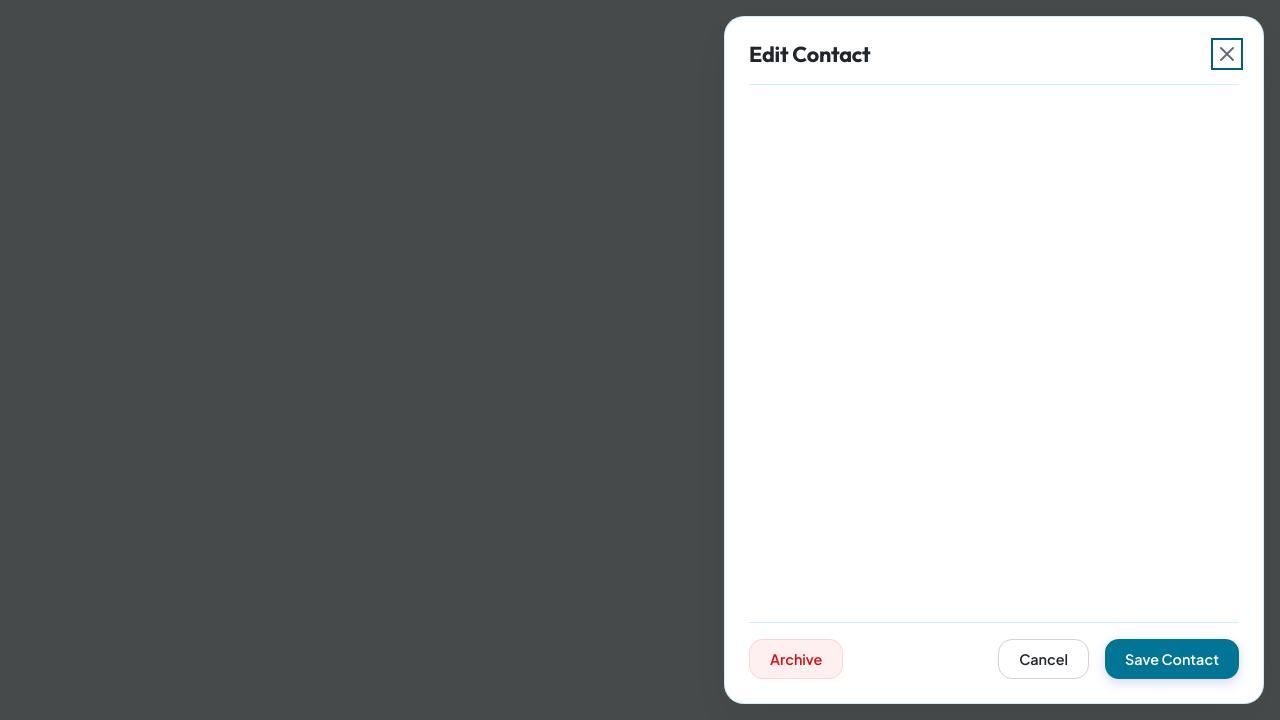
ContactDrawer › archiving › archives when confirmed, closes and reports it
The width and height of the screenshot is (1280, 720).
Click the button with test id "archive-contact" at (796, 659), box [749,639,844,679]
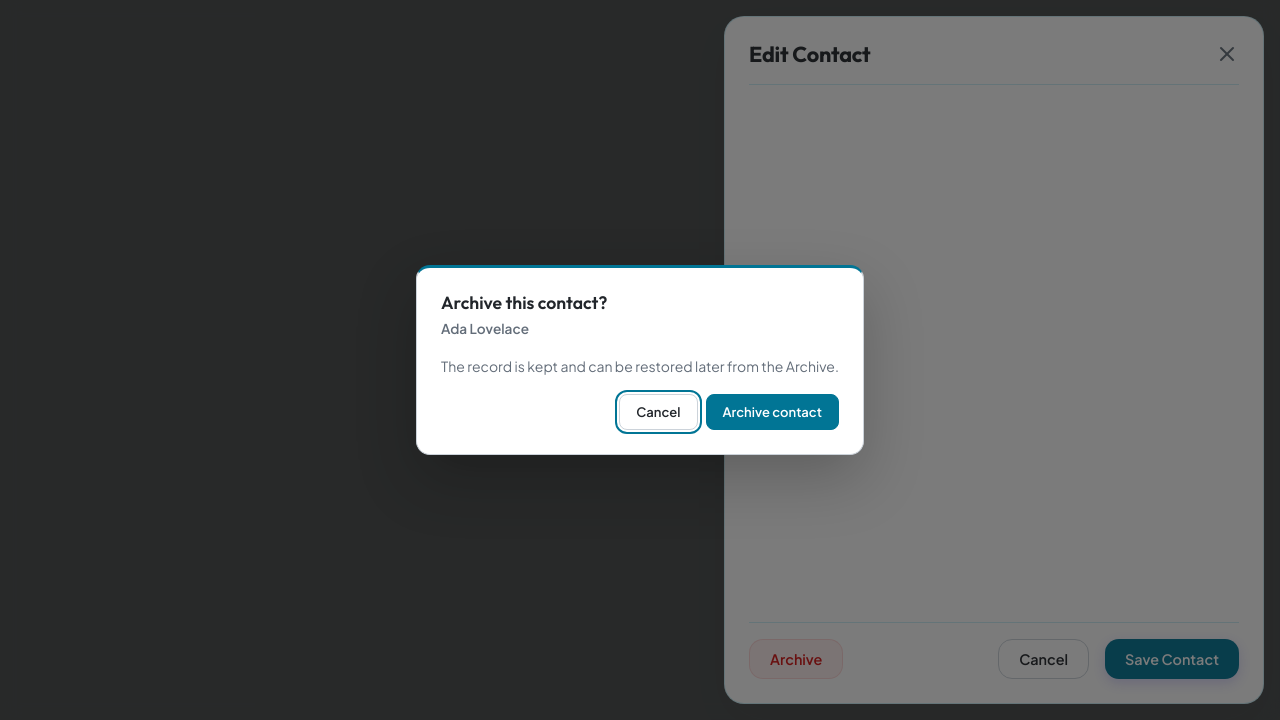
Click the button with test id "confirm-dialog-confirm" at (772, 412), box [706,394,839,430]
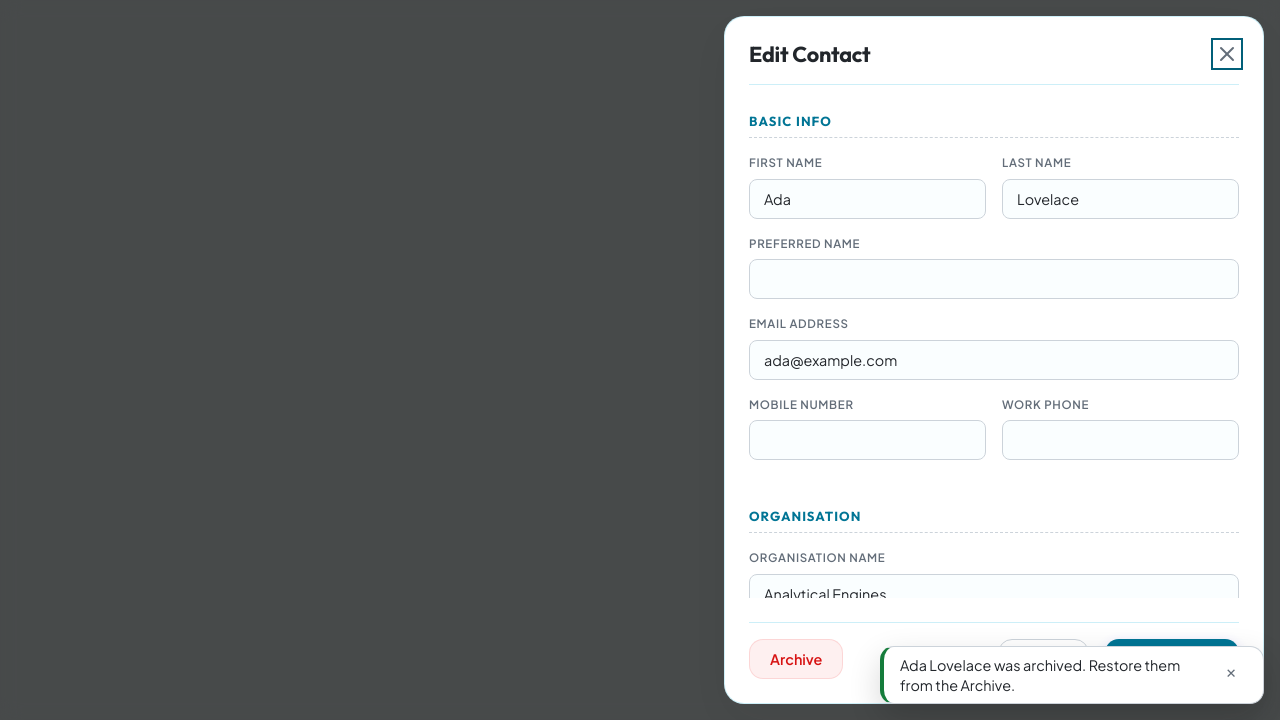
Now the list item with test id "toast-success" shows "was archived", box [900,656,1180,694]
